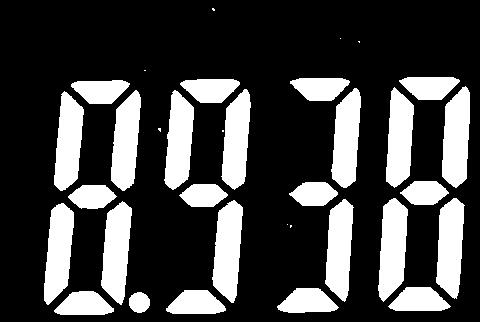3: (272, 78, 363, 315)
8: (40, 80, 142, 318), (377, 75, 471, 313)
9: (161, 78, 253, 318)
dot: (129, 291, 151, 314)
